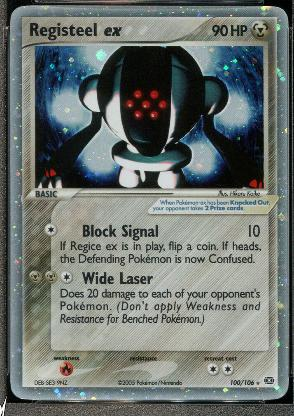Card: (10, 4, 290, 402)
